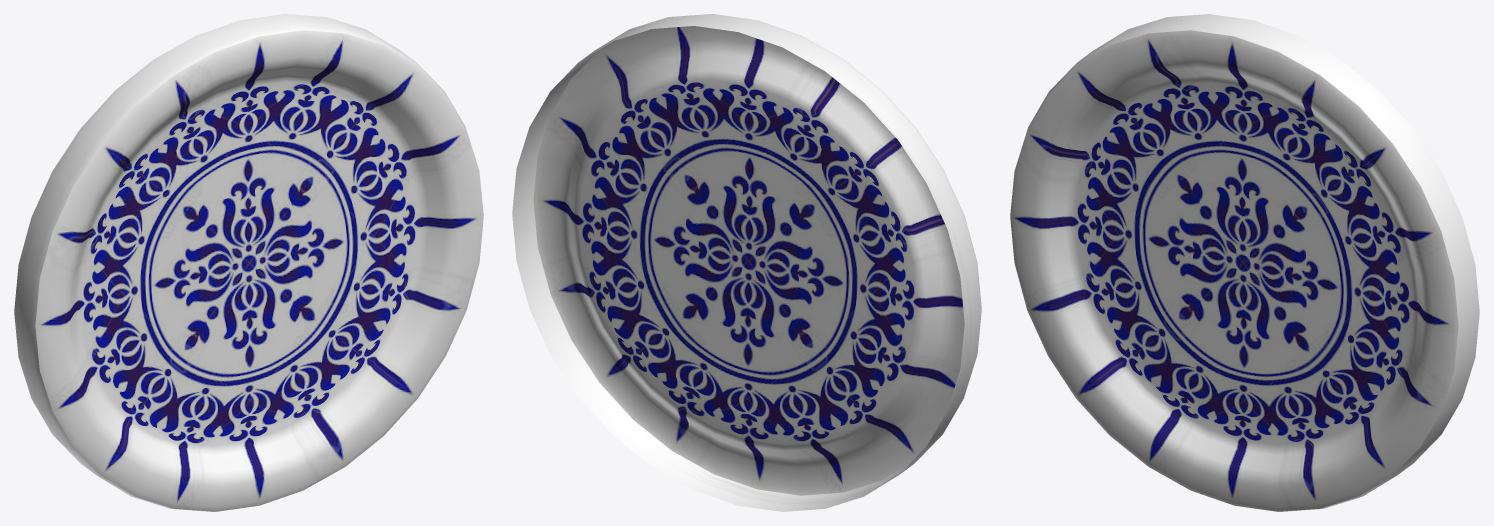
File: porcelain_plate_1.fbx
The picture shows the model from 3 angles, left to right: view 1: azimuth 30°, elevation 25°; view 2: azimuth 150°, elevation 25°; view 3: azimuth 330°, elevation 25°; orthographic projection.
Parts seen in each view (by area): view 1: Cylinder.002; view 2: Cylinder.002; view 3: Cylinder.002.
Boxes of the visible parts, box(x1,y1,x2,y2) form: Cylinder.002: box(14, 14, 483, 511); Cylinder.002: box(512, 14, 981, 511); Cylinder.002: box(1010, 14, 1479, 511).
Bounding box in the file's own units: 15.8 × 15.8 × 1.23.
